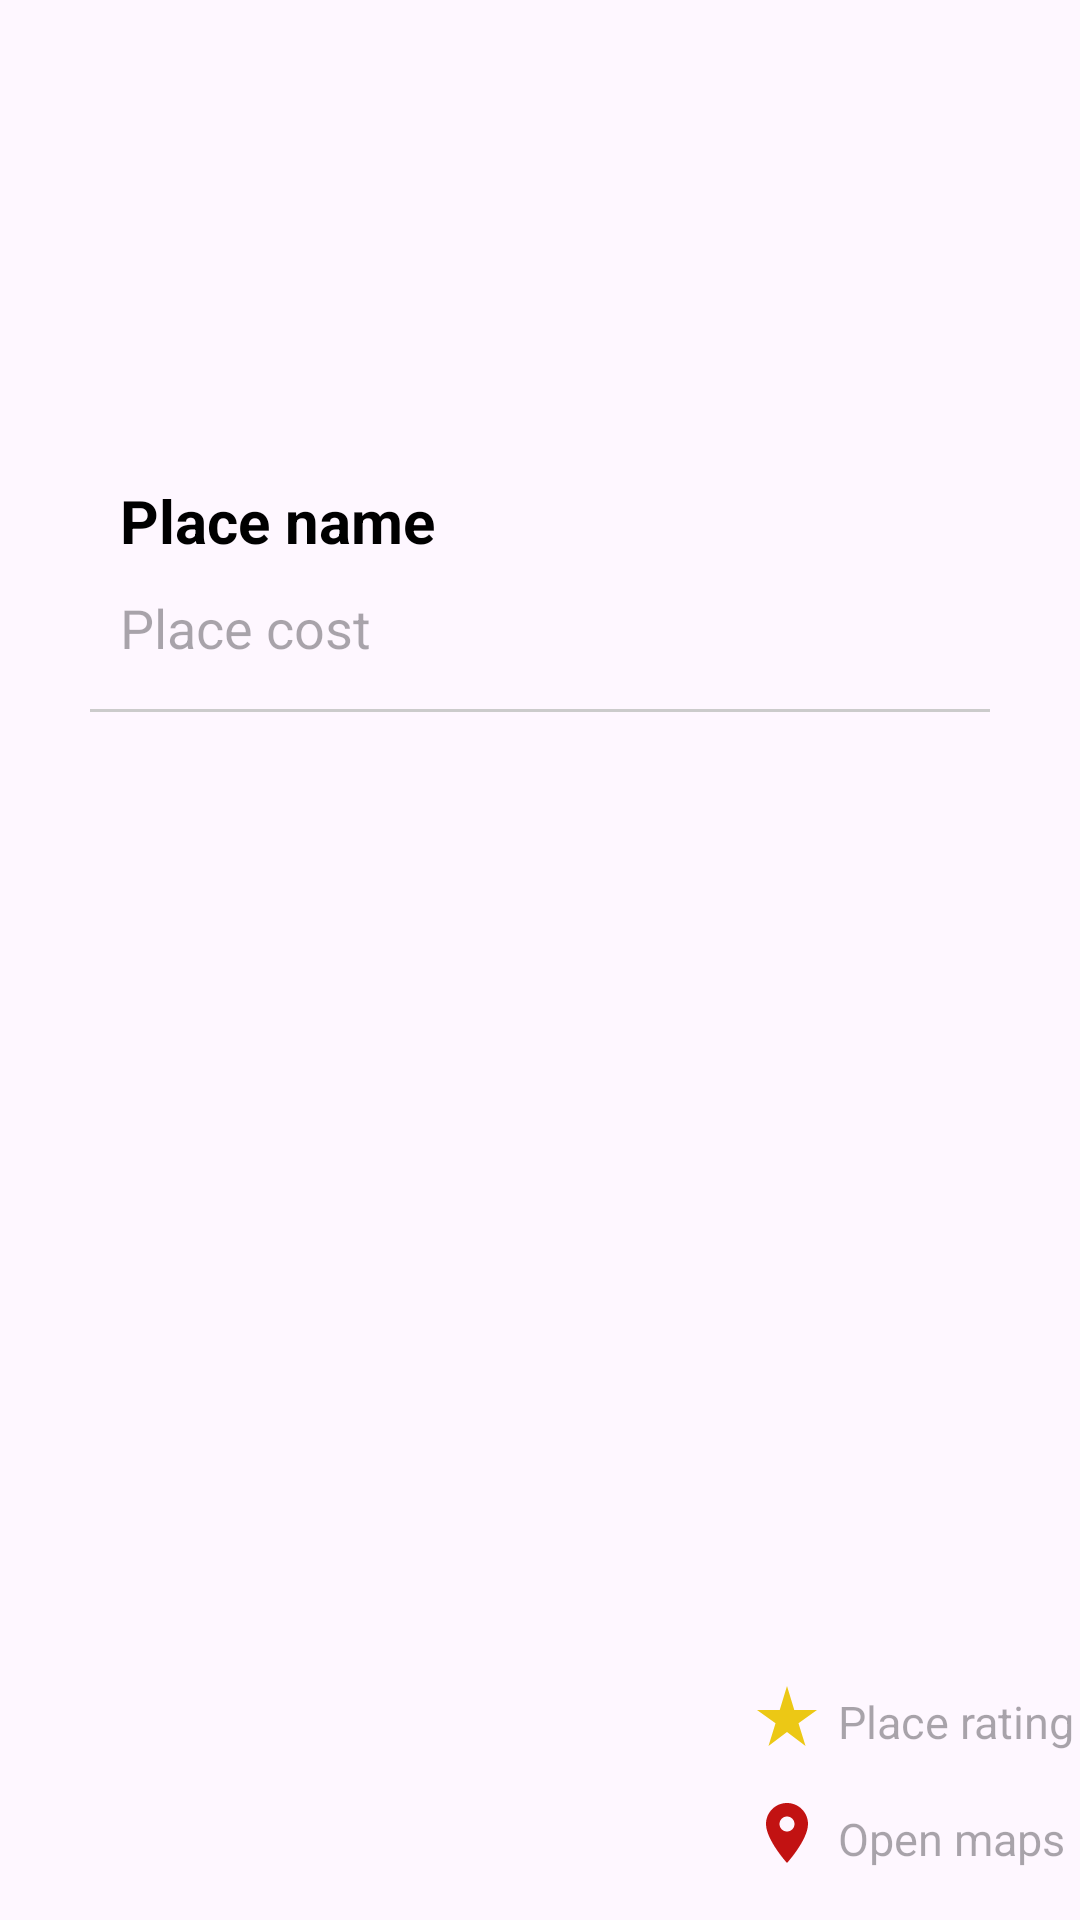

Icon bounding boxes for this 1080w x 1920h phone screenshot, format [x1,y1,x2,y2]:
map pin: [766,1803,808,1863]
star rating: [757,1686,817,1746]
